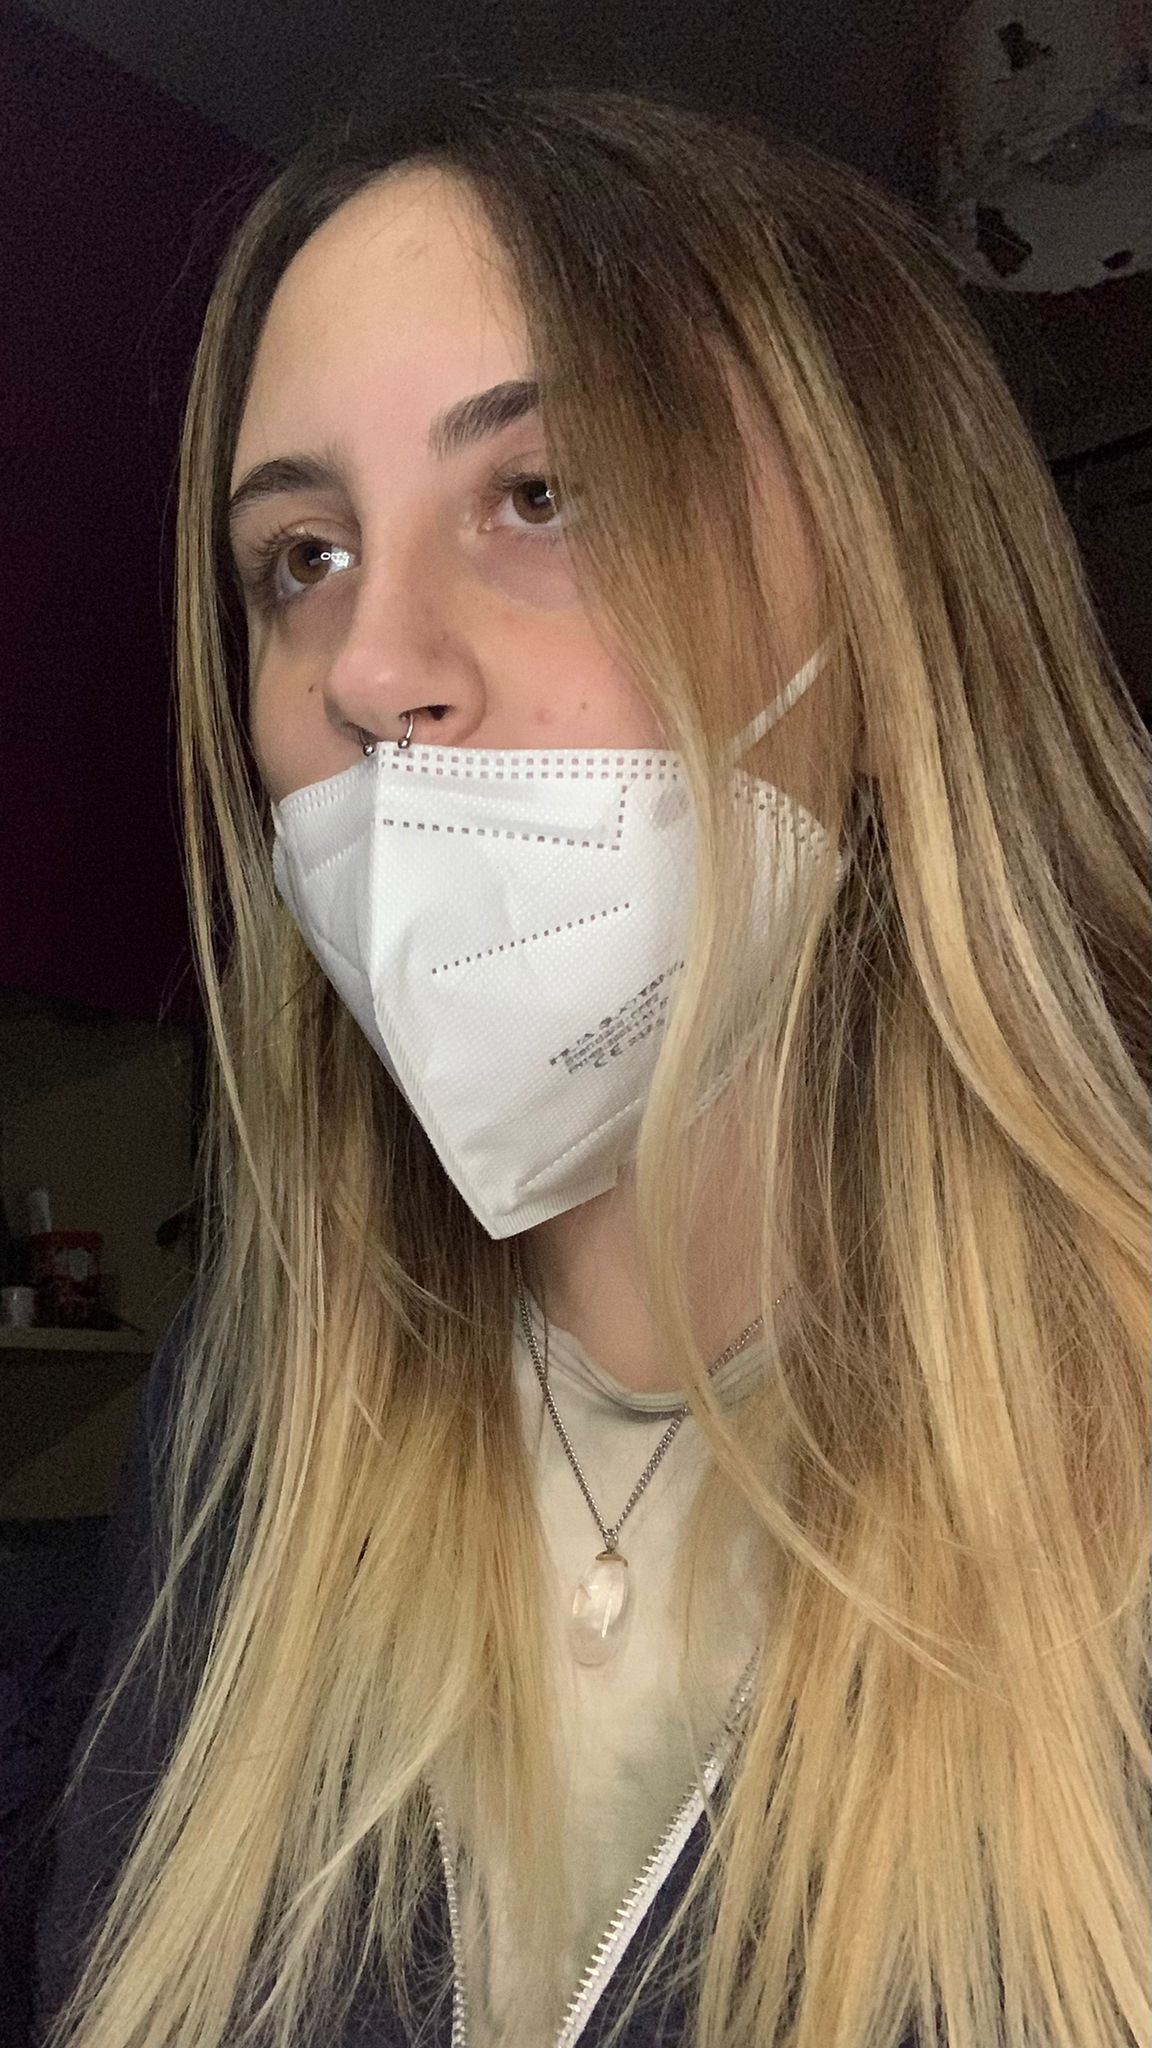with_incorrect_mask: (130, 83, 1028, 1258)
